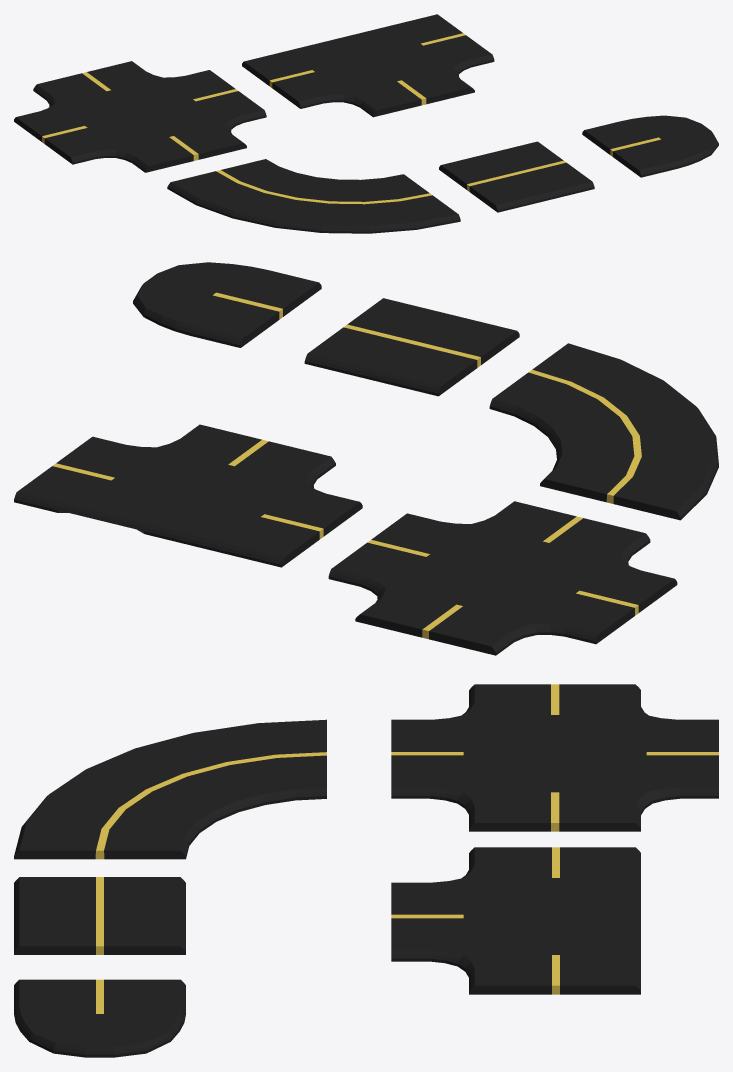
The model's file is Roads (1).fbx.
3 renders of one model, top to bottom at view 1: azimuth 30°, elevation 25°; view 2: azimuth 150°, elevation 25°; view 3: azimuth 270°, elevation 25°, orthographic. The views are drawn at different scales.
Visible parts, largest first — view 1: Cube_198, Cube_199, Cube_195, Cube_196, Cube_197; view 2: Cube_198, Cube_199, Cube_195, Cube_196, Cube_197; view 3: Cube_198, Cube_199, Cube_195, Cube_196, Cube_197.
Part boxes in pixels (<box>): Cube_198: <box>14,61,266,172</box>; Cube_199: <box>242,14,494,117</box>; Cube_195: <box>167,159,460,233</box>; Cube_196: <box>439,141,594,212</box>; Cube_197: <box>582,115,718,177</box>; Cube_198: <box>328,501,677,655</box>; Cube_199: <box>14,424,362,567</box>; Cube_195: <box>489,343,718,520</box>; Cube_196: <box>304,298,519,396</box>; Cube_197: <box>133,262,321,347</box>; Cube_198: <box>391,684,718,831</box>; Cube_199: <box>391,847,640,994</box>; Cube_195: <box>14,719,326,859</box>; Cube_196: <box>14,877,185,954</box>; Cube_197: <box>14,979,185,1057</box>.
Bounding box in the file's own units: 4472 × 50 × 3657.
